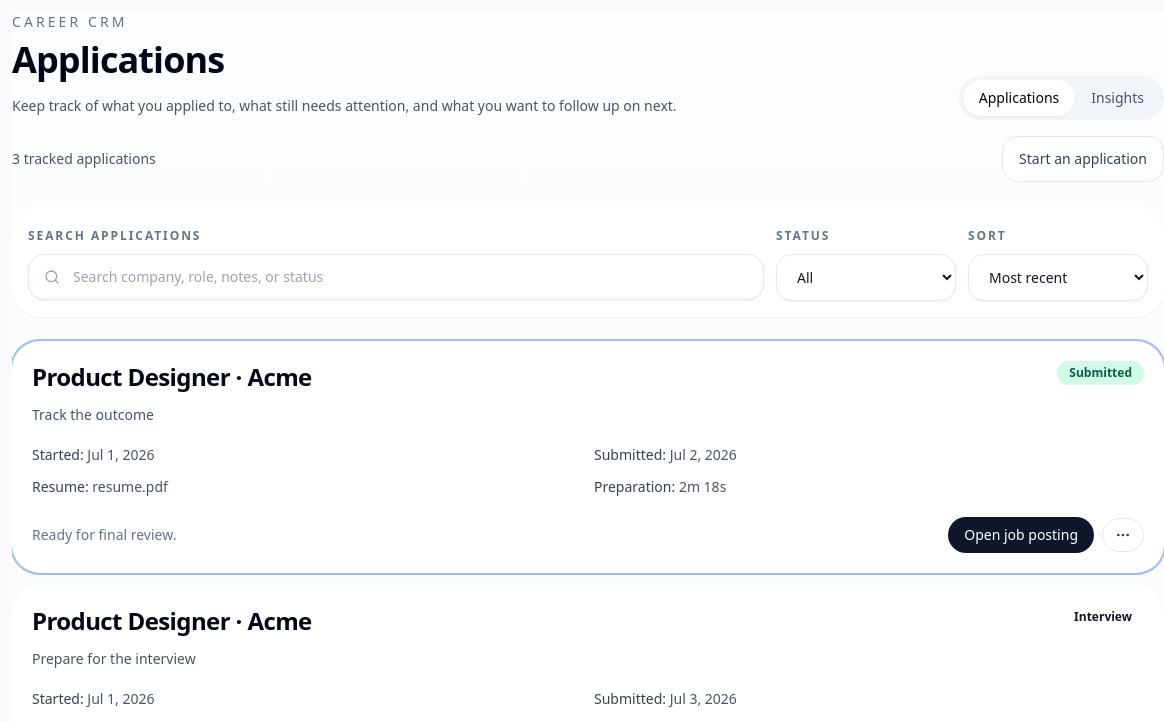
insights shows counts, rates, and small-sample guidance
Click the button "Insights". click: (1118, 98)
box: top-left (1075, 80), bottom-right (1160, 116)
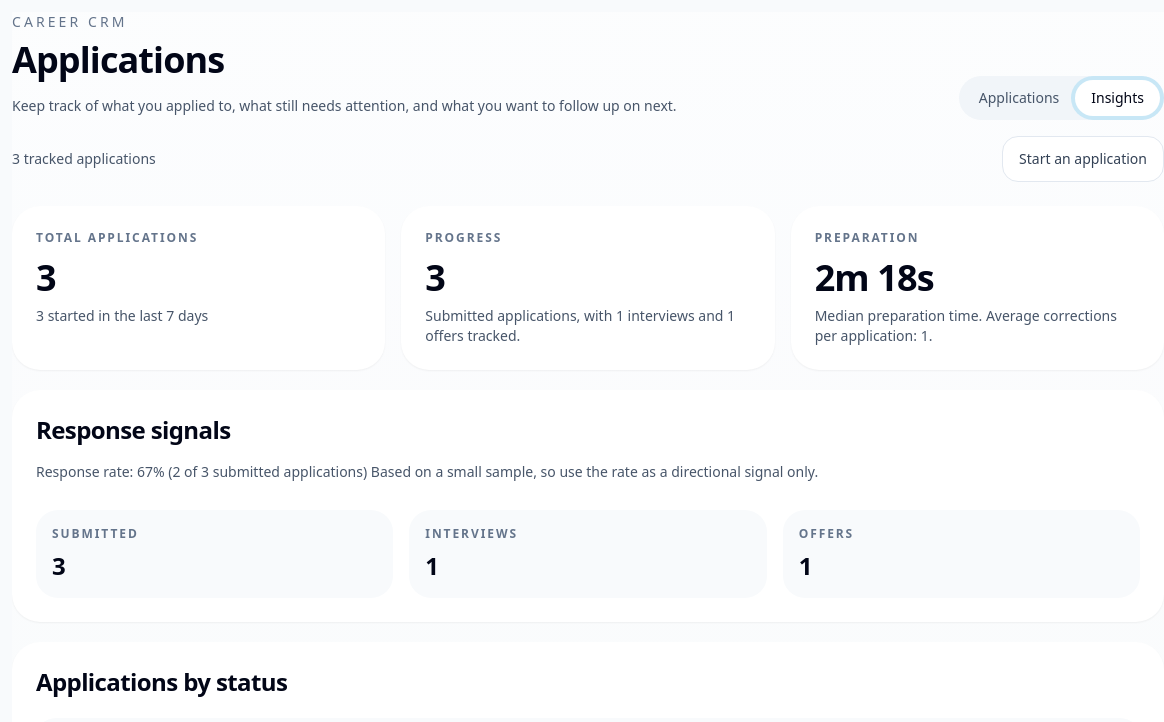
Expected: the text "Response rate:" is shown, top-left (36, 462), bottom-right (367, 481)
Expected: the text "Based on a small sample" is shown, top-left (367, 462), bottom-right (818, 481)
Expected: the text "Applications by status" is shown, top-left (36, 665), bottom-right (287, 698)
